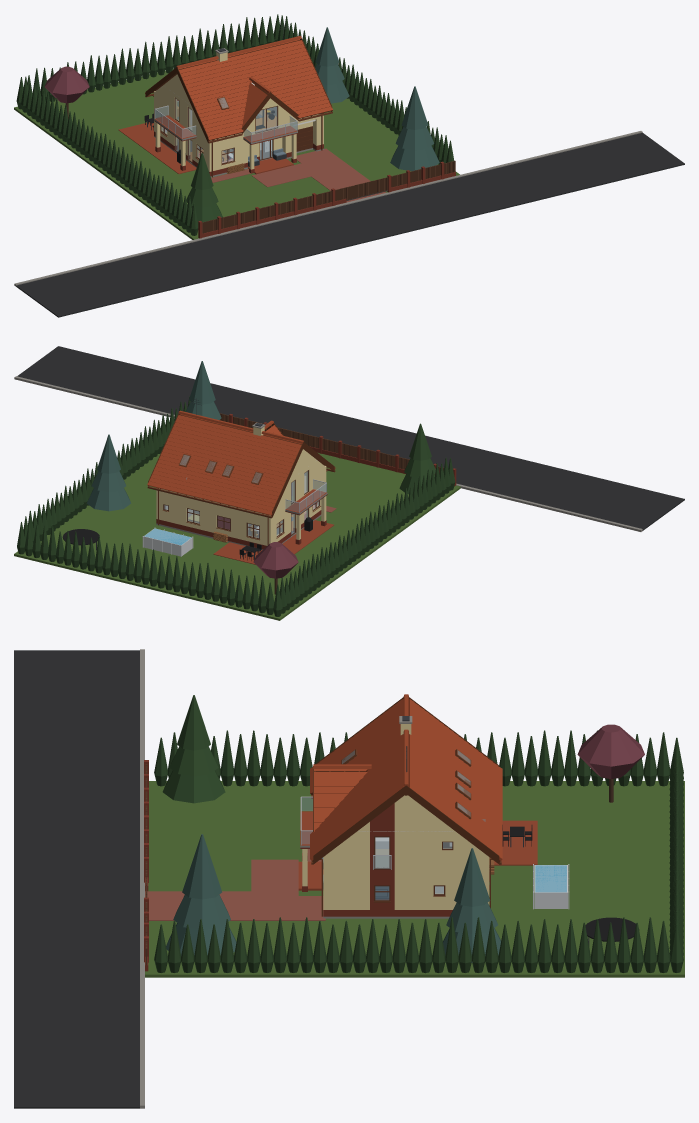
Rendered from house.glb.
3 views of the same model, one above another, from view 1: azimuth 30°, elevation 25°; view 2: azimuth 150°, elevation 25°; view 3: azimuth 270°, elevation 25° (orthographic). The views are drawn at different scales.
Parts seen in each view (by area): view 1: Site_Street, Site_Lawn, Garden_Driveway, Garden_Tree_0, Garden_Hedge_11, Garden_Hedge_12, Garden_Tree_2, Garden_Tree_1, Garden_Hedge_13, Garden_Hedge_04, Garden_Terrace, Garden_Hedge_02 (+35 smaller); view 2: Site_Street, Site_Lawn, Garden_Tree_2, Garden_Hedge_11, Garden_Hedge_12, Garden_Hedge_10, Garden_Hedge_13, GF_ExtWall_w28, Garden_Tree_1, Garden_Hedge_00, Garden_Hedge_02, Garden_Hedge_04 (+41 smaller); view 3: Site_Street, Site_Lawn, Garden_Driveway, GF_ExtWall_w92, UF_ExtWall_w151, Garden_Hedge_05, Garden_Hedge_07, Garden_Hedge_08, Garden_Hedge_06, Garden_Hedge_09, Garden_Tree_0, Garden_Tree_1 (+16 smaller).
Part boxes in pixels (left/top/right/bottom): Site_Street: left=14, top=131, right=684, bottom=317; Site_Lawn: left=14, top=69, right=459, bottom=239; Garden_Driveway: left=211, top=148, right=386, bottom=202; Garden_Tree_0: left=390, top=86, right=439, bottom=171; Garden_Hedge_11: left=87, top=41, right=150, bottom=92; Garden_Hedge_12: left=149, top=28, right=212, bottom=77; Garden_Tree_2: left=315, top=27, right=349, bottom=103; Garden_Tree_1: left=186, top=152, right=222, bottom=224; Garden_Hedge_13: left=211, top=16, right=274, bottom=56; Garden_Hedge_04: left=158, top=176, right=198, bottom=235; Garden_Terrace: left=118, top=122, right=196, bottom=173; Garden_Hedge_02: left=87, top=126, right=125, bottom=183; Site_Street: left=14, top=346, right=684, bottom=531; Site_Lawn: left=14, top=452, right=460, bottom=620; Garden_Tree_2: left=86, top=434, right=131, bottom=511; Garden_Hedge_11: left=149, top=549, right=212, bottom=599; Garden_Hedge_12: left=86, top=536, right=149, bottom=584; Garden_Hedge_10: left=211, top=568, right=274, bottom=614; Garden_Hedge_13: left=24, top=523, right=87, bottom=569; GF_ExtWall_w28: left=211, top=505, right=272, bottom=549; Garden_Tree_1: left=399, top=423, right=435, bottom=494; Garden_Hedge_00: left=273, top=559, right=313, bottom=616; Garden_Hedge_02: left=346, top=505, right=384, bottom=564; Garden_Hedge_04: left=417, top=457, right=455, bottom=513; Site_Street: left=14, top=649, right=144, bottom=1108; Site_Lawn: left=145, top=781, right=684, bottom=977; Garden_Driveway: left=145, top=849, right=325, bottom=920; GF_ExtWall_w92: left=323, top=870, right=415, bottom=916; UF_ExtWall_w151: left=323, top=795, right=419, bottom=869; Garden_Hedge_05: left=577, top=917, right=683, bottom=972; Garden_Hedge_07: left=366, top=917, right=471, bottom=973; Garden_Hedge_08: left=260, top=917, right=366, bottom=972; Garden_Hedge_06: left=472, top=917, right=577, bottom=972; Garden_Hedge_09: left=154, top=919, right=260, bottom=972; Garden_Tree_0: left=166, top=834, right=236, bottom=955; Garden_Tree_1: left=162, top=695, right=225, bottom=803.
Size of the model in its own units: 66 by 11.43 by 41.
